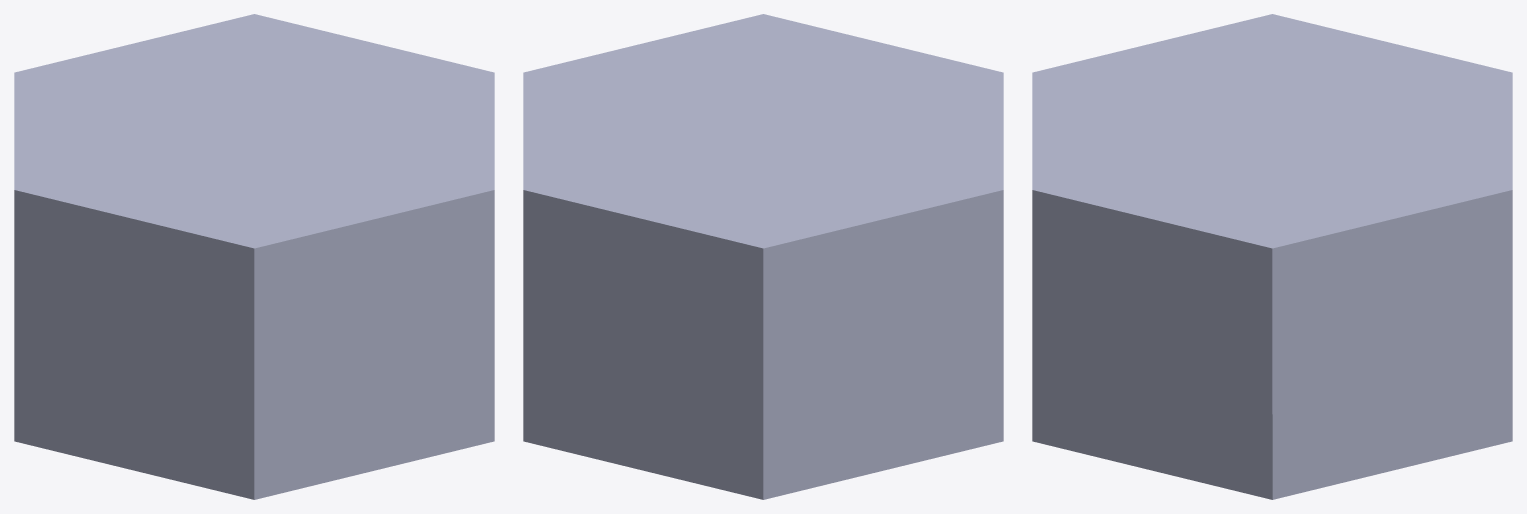
File: HexGrey.fbx
3 renders of one model, left to right at view 1: azimuth 30°, elevation 25°; view 2: azimuth 150°, elevation 25°; view 3: azimuth 270°, elevation 25°, orthographic.
Visible parts, largest first — view 1: pCylinder1; view 2: pCylinder1; view 3: pCylinder1.
Part boxes in pixels (box(x1,y1,x2,y2)): pCylinder1: box(14, 14, 494, 499); pCylinder1: box(523, 14, 1003, 499); pCylinder1: box(1032, 14, 1512, 499).
Bounding box in the file's own units: 2 × 1 × 1.73.
Materials: 1 (1 with a texture image).
